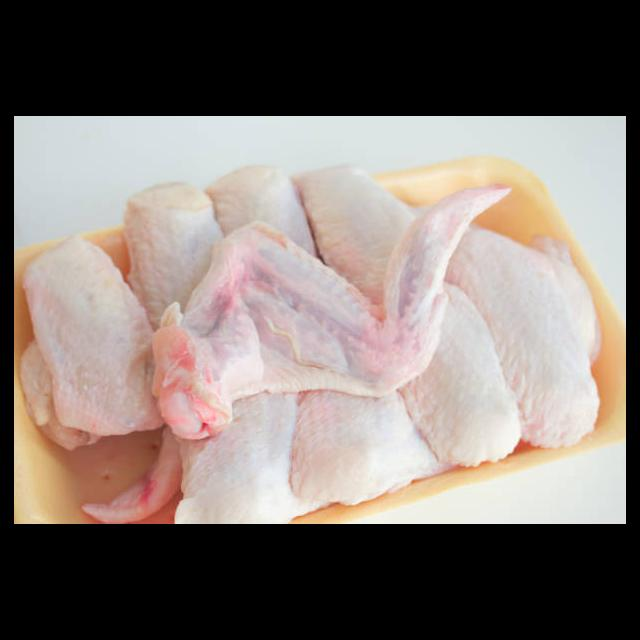chicken: (153, 181, 513, 445), (289, 163, 520, 469), (413, 205, 602, 450), (18, 234, 168, 450), (123, 179, 227, 337), (205, 166, 322, 267)
